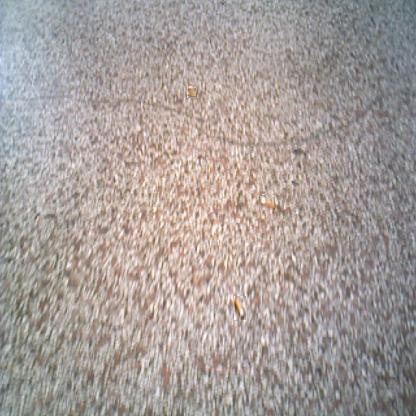dirty: (234, 296, 246, 320), (259, 194, 275, 210), (186, 86, 198, 97), (220, 1, 226, 5)
